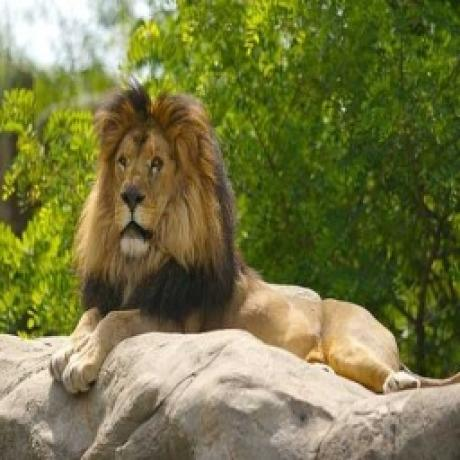Lion: (48, 78, 425, 401)
